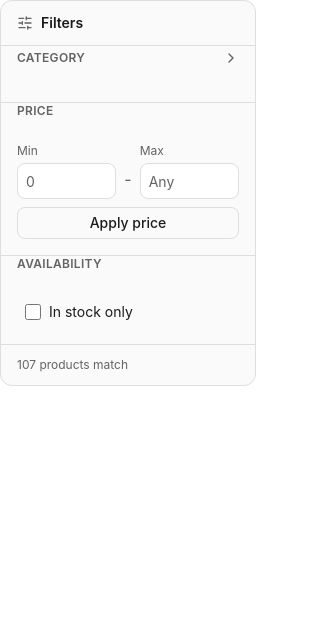
it: FilterPanel › ships folded and unfolds and refolds on the header
Expected: the checkbox labelled "Laptops" is not shown
Click the button "Category". click: (128, 58)
box: [17,46,239,70]
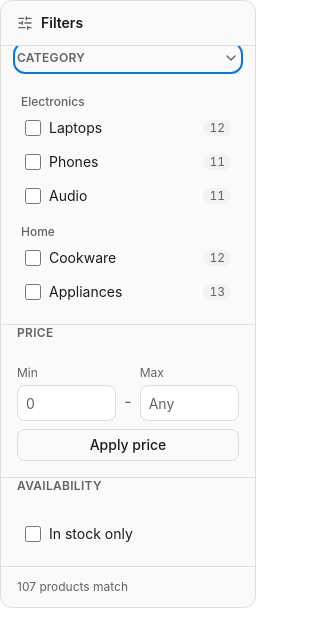
Expected: the button "Category" is expanded
Expected: the checkbox labelled "Laptops 12" is shown, [25,120,41,136]
Click the button "Category". click: (128, 58)
box: [17,46,239,70]
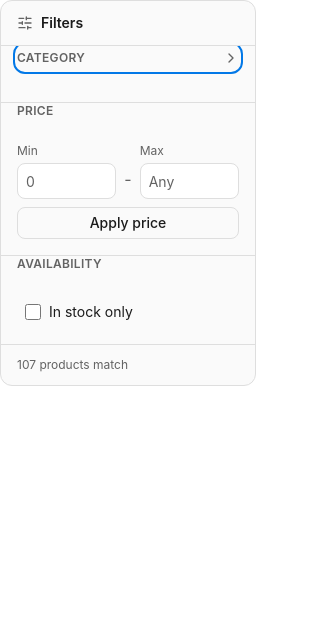
Expected: the button "Category" is collapsed, [17,46,239,70]
Expected: the text "Laptops" is gone
